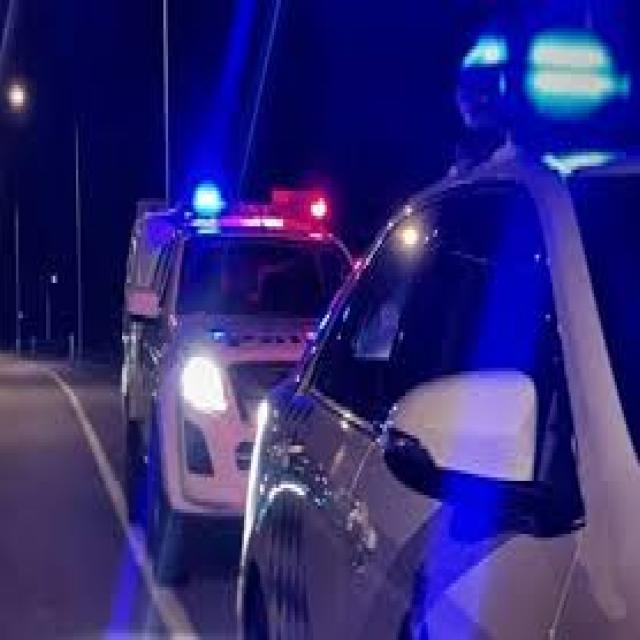emergency lights: (444, 18, 638, 140), (178, 156, 352, 248)
